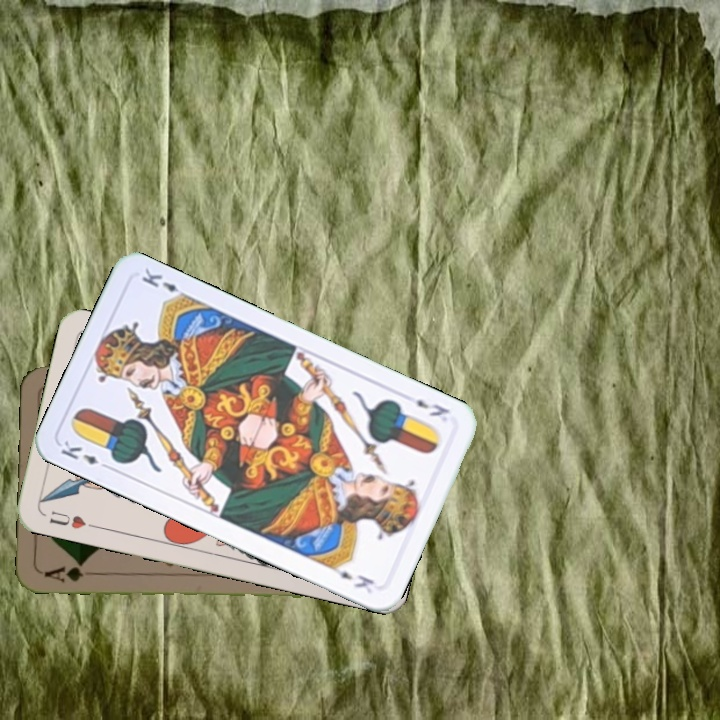EK: (57, 436, 114, 473), (412, 395, 452, 420)
GA: (40, 559, 99, 584)
HU: (45, 506, 89, 532)
